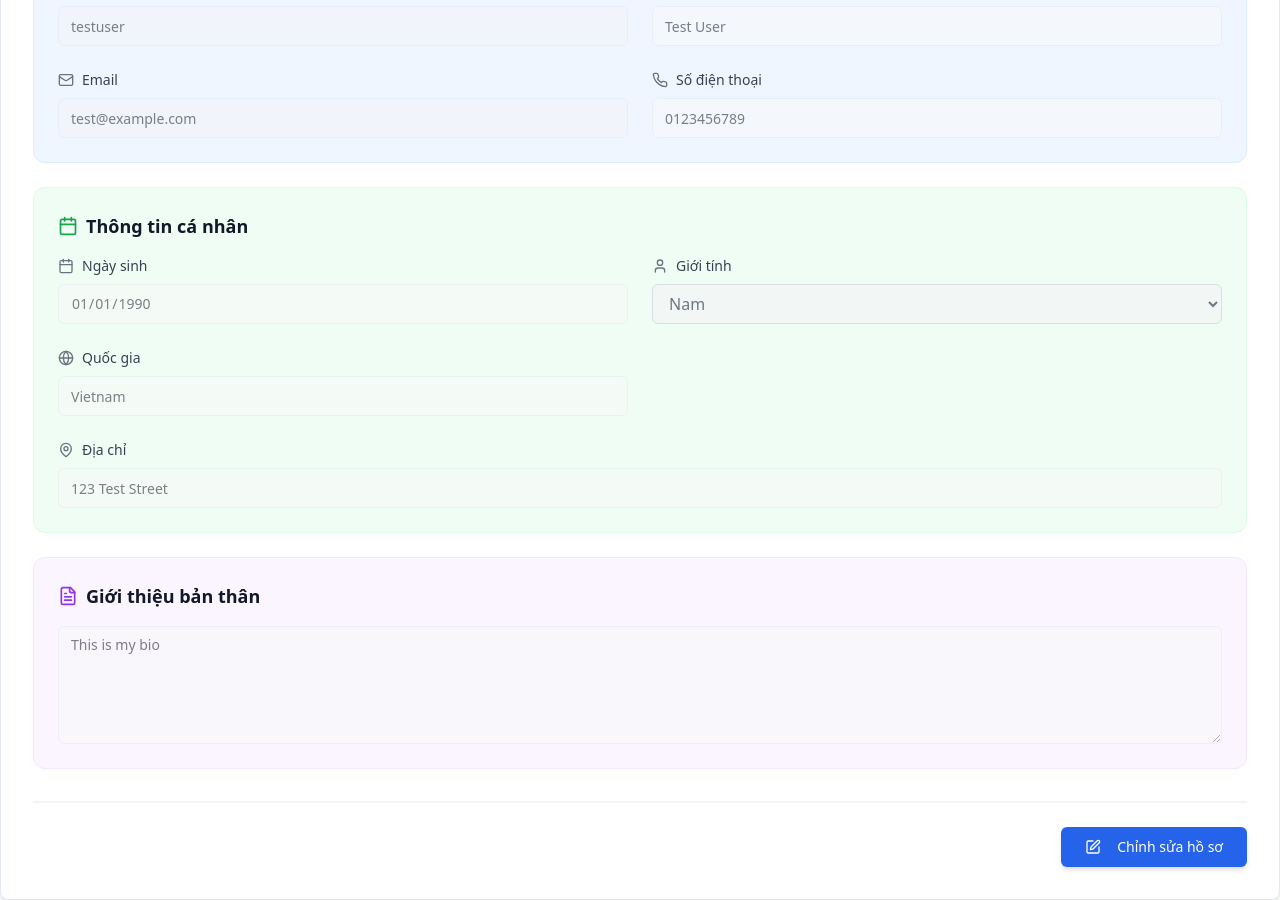
Test: Update Profile Functional Tests › Cancels editing and resets form
The image size is (1280, 900).
(page scrolled)
Click the button "Chỉnh sửa hồ sơ".
click(1154, 847)  # box x1=1061 y1=827 x2=1247 y2=867
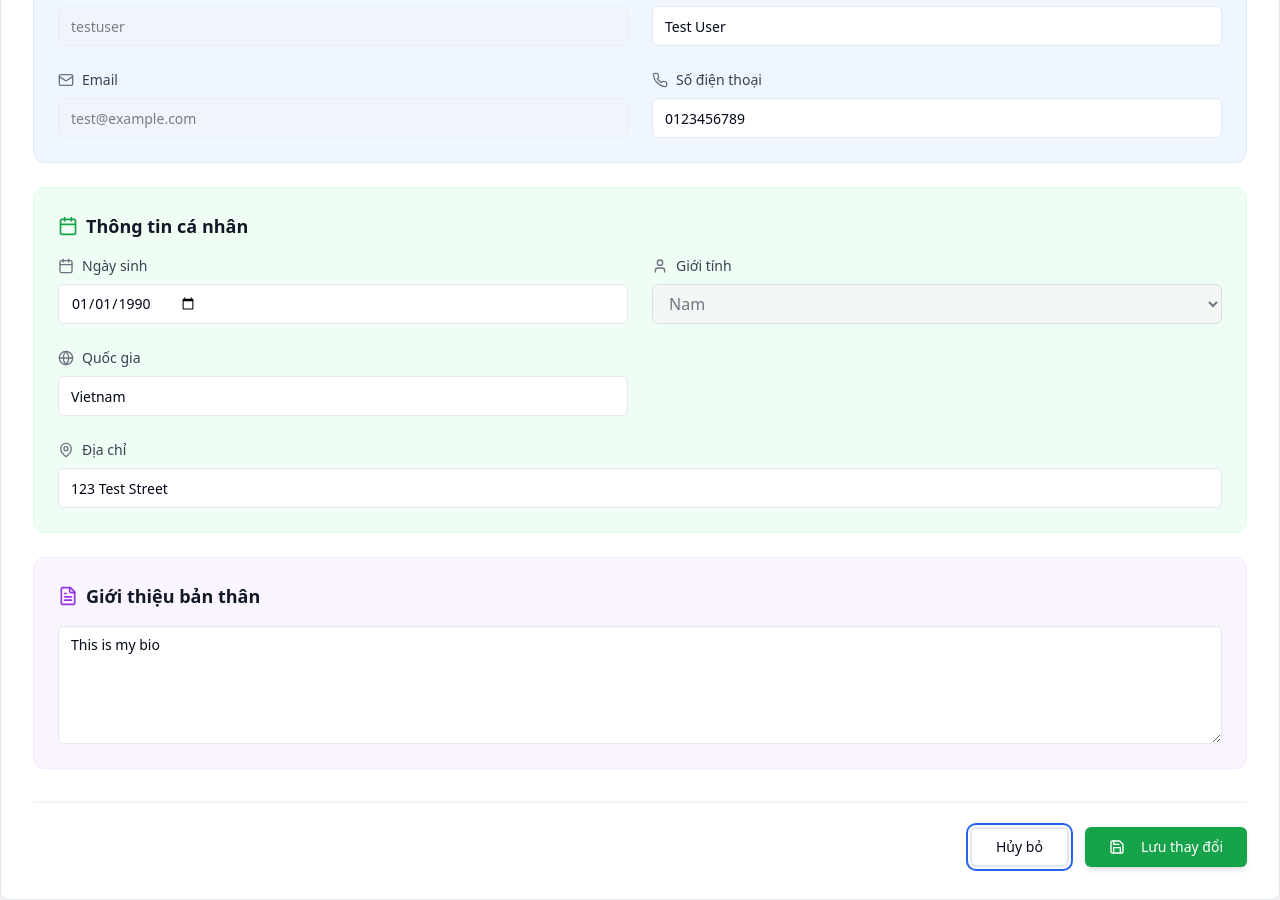
Replace the text in the field showing "Test User" below "Họ và tên" with "Changed Name" at point(937, 26), box x1=652 y1=6 x2=1222 y2=46
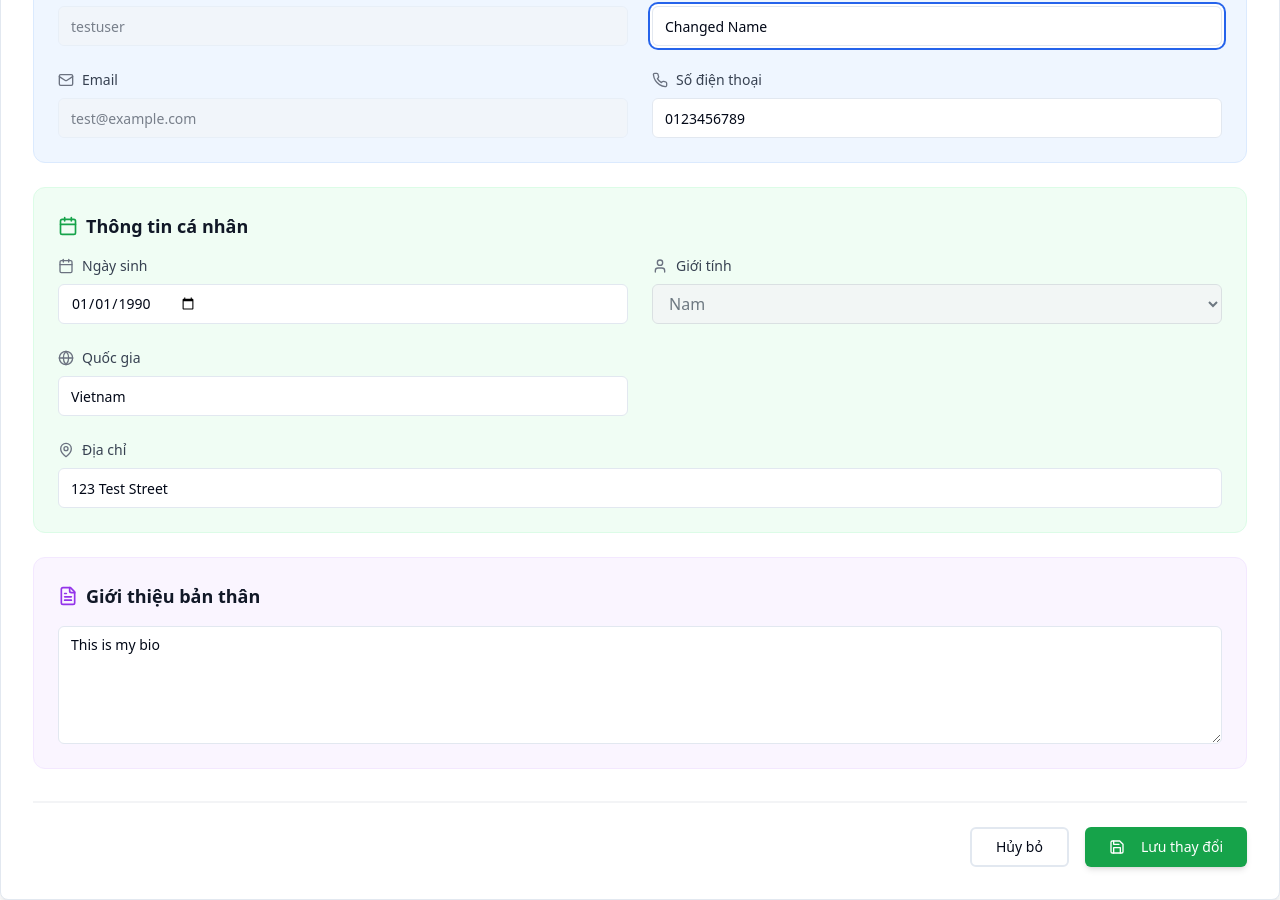
Click cancel
Click the button "Hủy bỏ".
click(1019, 847)  # box x1=970 y1=827 x2=1069 y2=867
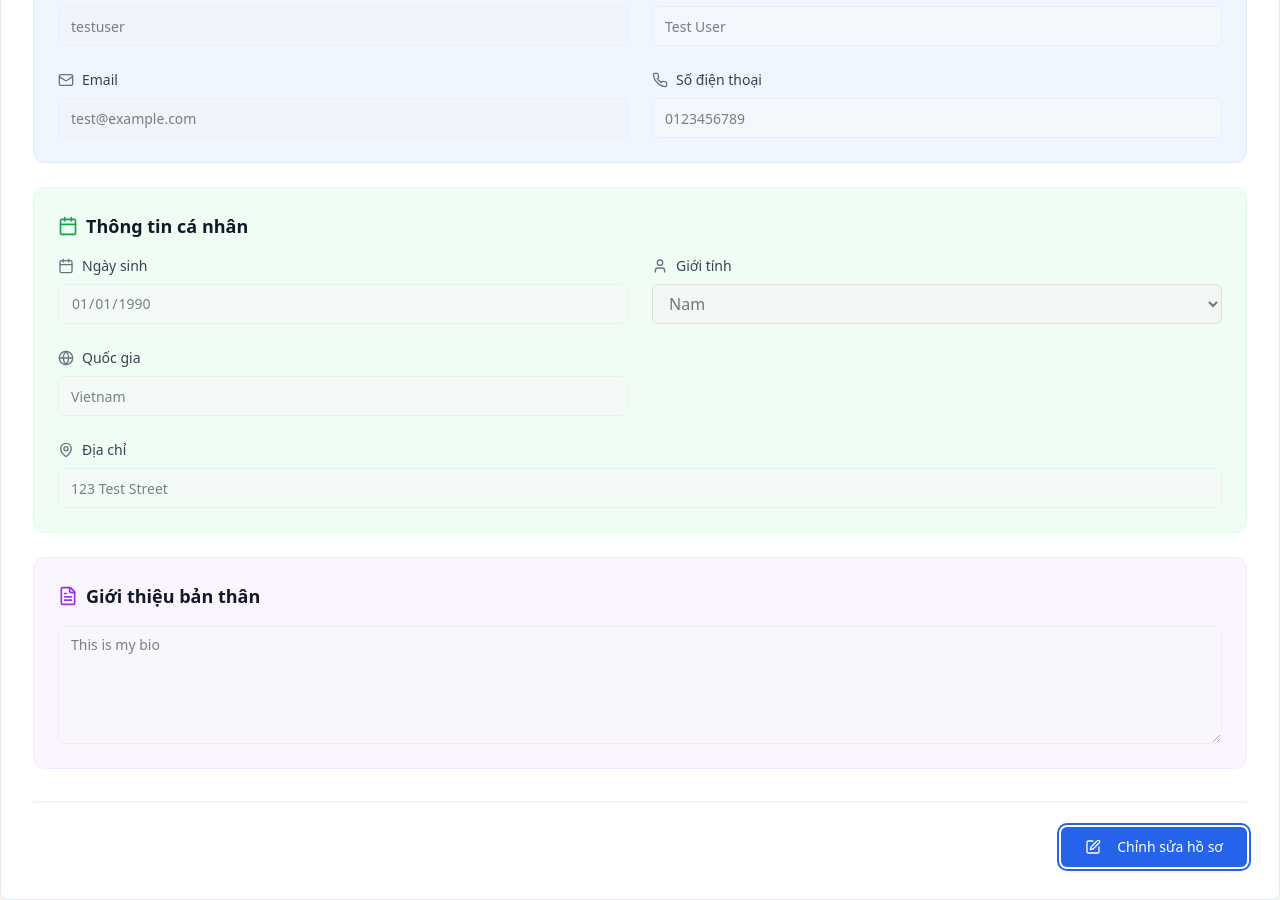
Expected: the button "Chỉnh sửa hồ sơ" is shown, x1=1061 y1=827 x2=1247 y2=867
Expected: the field showing "Test User" below "Họ và tên" is shown, x1=652 y1=6 x2=1222 y2=46
